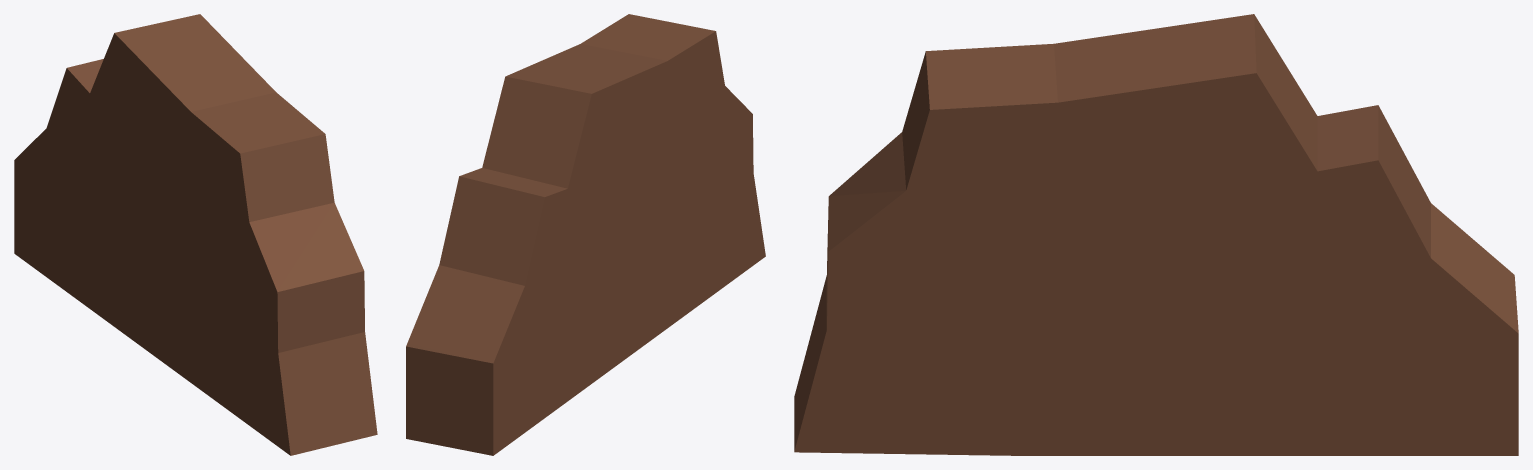
The model's file is DamagedWall002.fbx.
3 views of the same model, side by side, from view 1: azimuth 30°, elevation 25°; view 2: azimuth 150°, elevation 25°; view 3: azimuth 270°, elevation 25° (orthographic). The views are drawn at different scales.
Parts seen in each view (by area): view 1: Box011; view 2: Box011; view 3: Box011.
Part boxes in pixels (x1,y1,x2,y2): Box011: [14, 14, 377, 455]; Box011: [406, 14, 765, 455]; Box011: [794, 14, 1518, 455].
Bounding box in the file's own units: 32.42 × 106 × 180.
